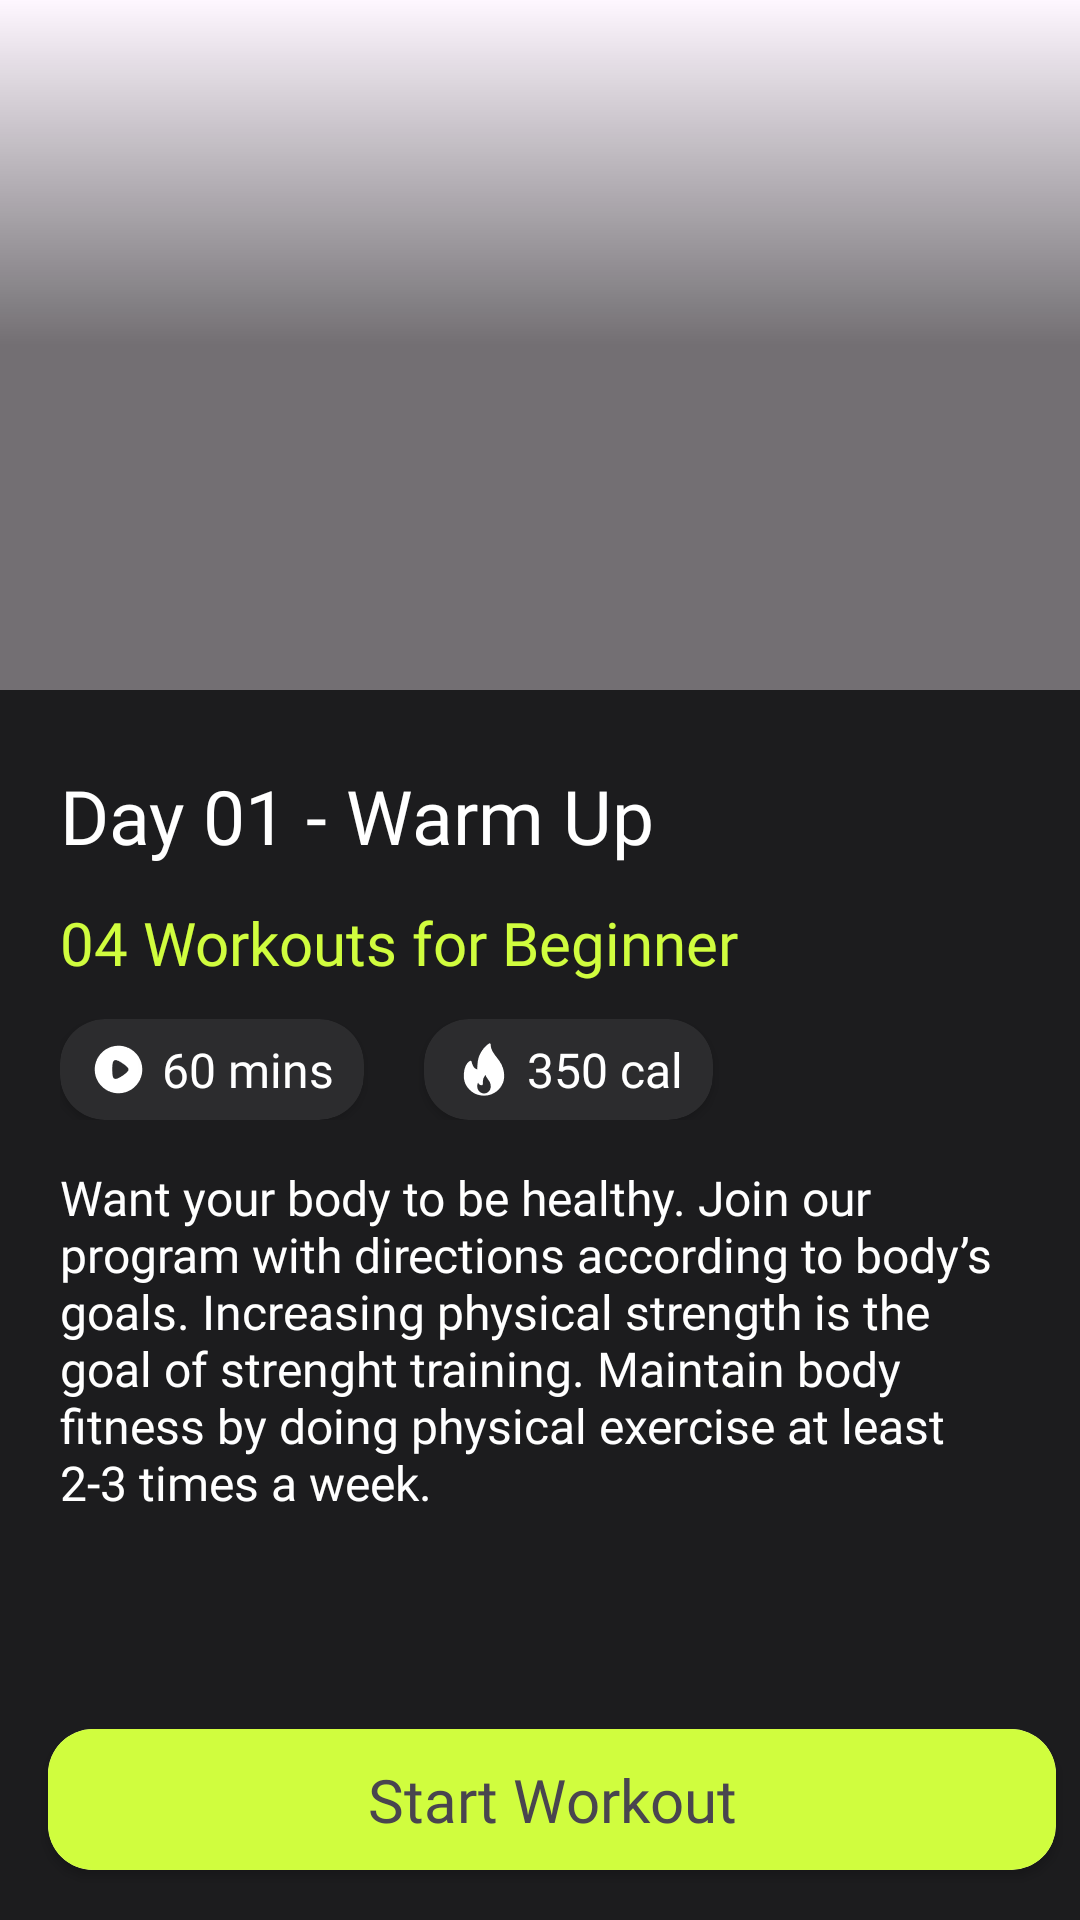

Icon bounding boxes for this 1080 × 1920 phone screenshot, format [left=x1, top=y1, right=x2, bottom=y2]:
flame: [left=463, top=1043, right=505, bottom=1096]
play: [left=94, top=1045, right=143, bottom=1094]
